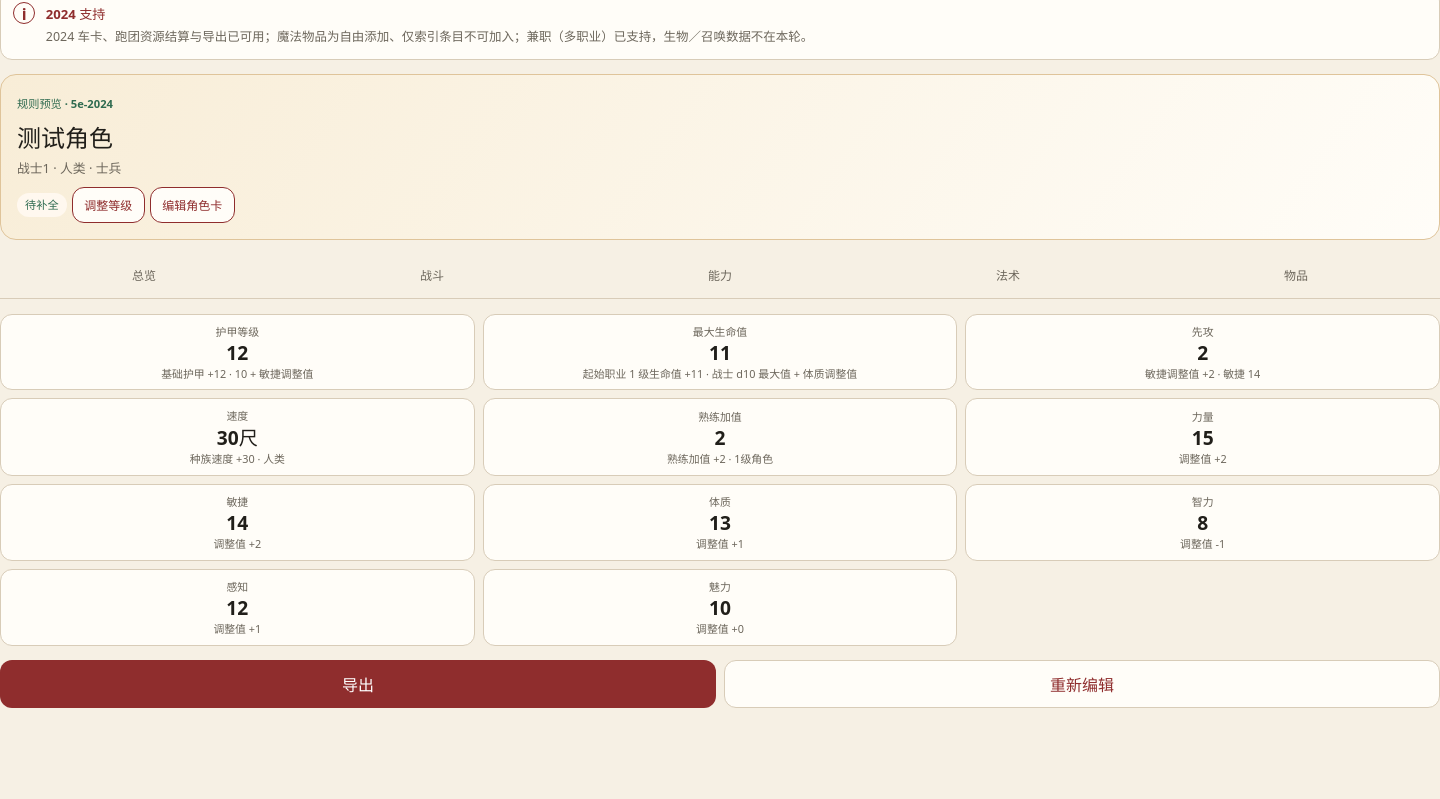
Test: CharacterSheetStep › 显示背景固定授予的起源专长、来源标签与完整效果
Click the tab "能力" at (720, 276), box [576,254,864,298]
(page scrolled)
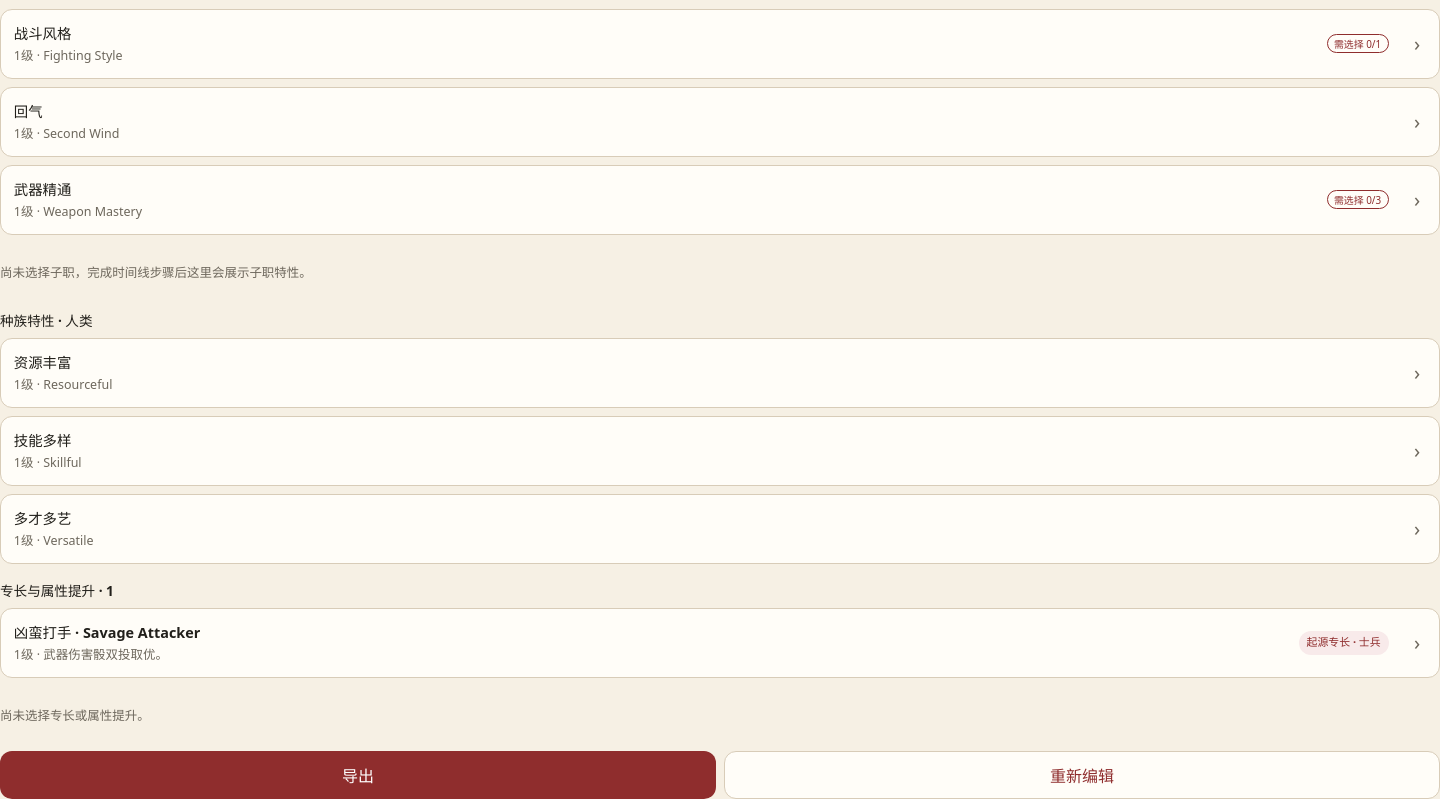
Now the text "专长与属性提升" is shown, box [0,580,114,600]
Now the text "凶蛮打手 · Savage Attacker" is shown, box [14,621,200,642]
Now the text "起源专长 · 士兵" is shown, box [1299,630,1389,654]
Click the button with class "expandable-option-card__arrow" next to "起源专长 · 士兵" at (1417, 642), box [1395,608,1439,676]
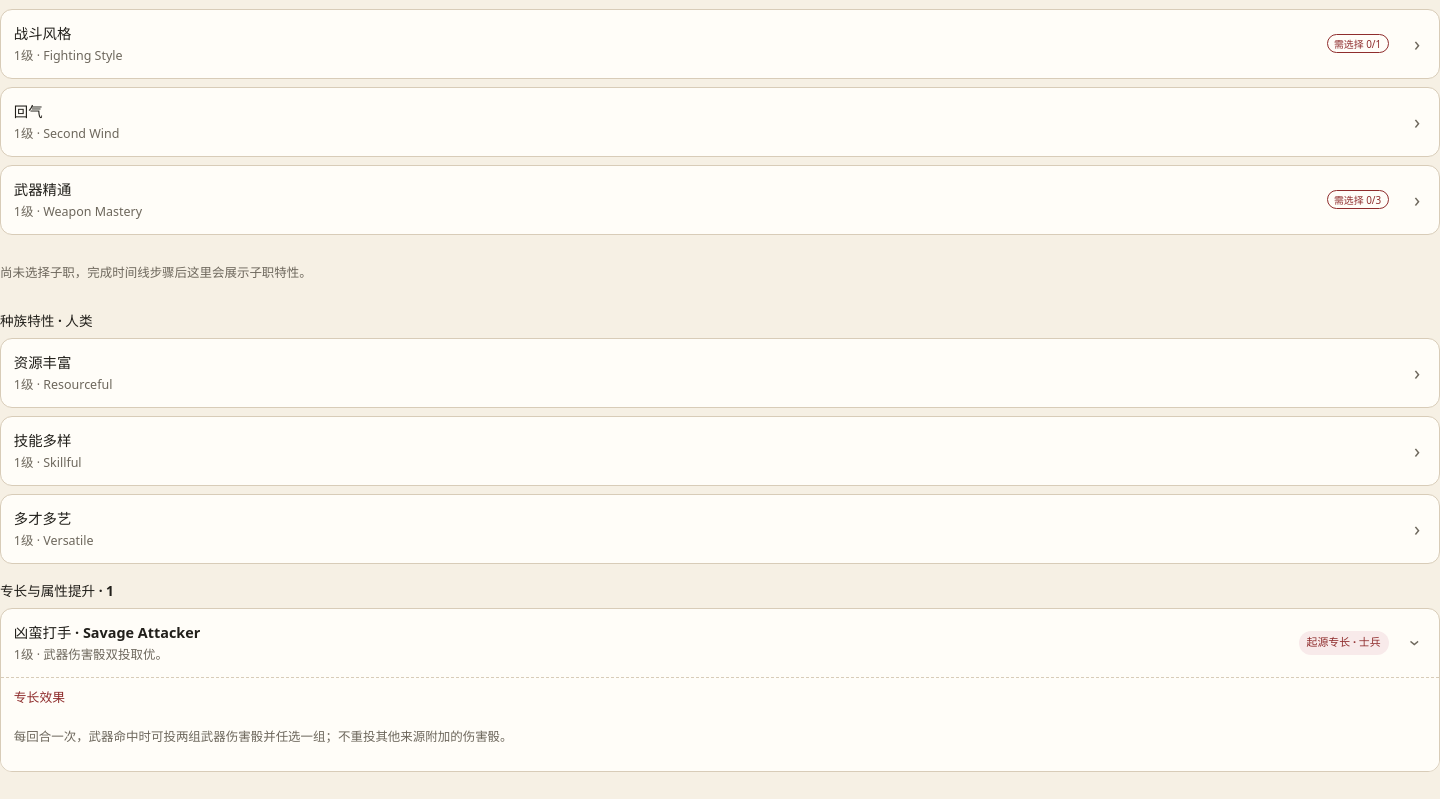
Now the element with class "expandable-option-card" shows "每回合一次", box [14,728,513,745]
